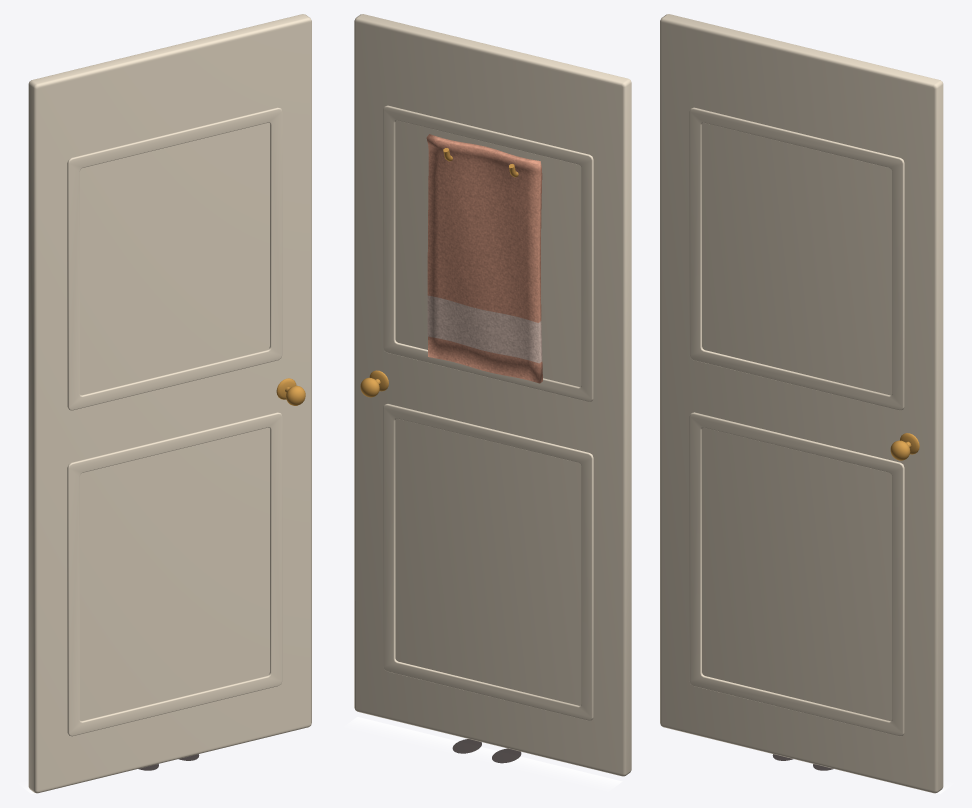
File: door.glb
3 views of the same model, side by side, from view 1: azimuth 30°, elevation 25°; view 2: azimuth 150°, elevation 25°; view 3: azimuth 330°, elevation 25° (orthographic). The views are drawn at different scales.
Parts seen in each view (by area): view 1: Panel, InsetHall1, InsetHall0; view 2: Panel, Towel.001, InsetRoom1, InsetRoom0, Gap; view 3: Panel, InsetHall1, InsetHall0.
Part boxes in pixels (box(x1,y1,x2,y2)): Panel: box(28, 14, 311, 793); InsetHall1: box(67, 412, 282, 736); InsetHall0: box(67, 107, 282, 410); Panel: box(354, 14, 631, 776); Towel.001: box(426, 134, 542, 383); InsetRoom1: box(383, 404, 593, 720); InsetRoom0: box(383, 105, 593, 401); Gap: box(347, 717, 622, 789); Panel: box(660, 14, 943, 793); InsetHall1: box(689, 412, 904, 736); InsetHall0: box(689, 107, 904, 410).
Bounding box in the file's own units: 0.83 × 2.04 × 0.1976.
6 materials, 3 textured.
